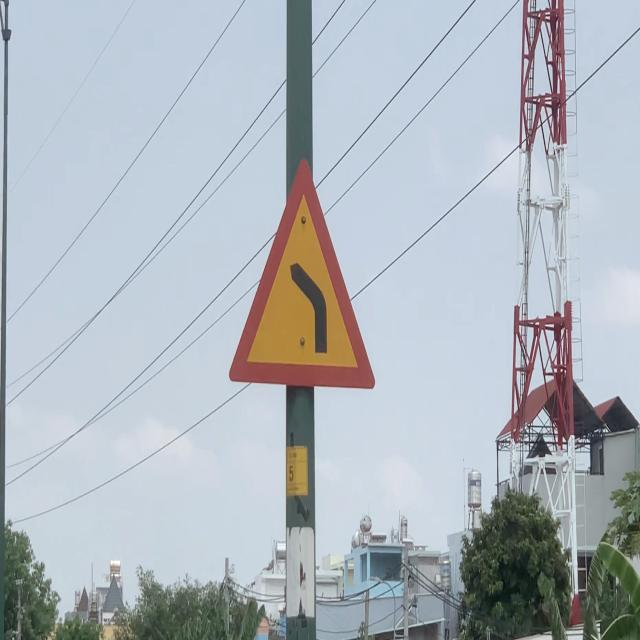Nguy hiem: (221, 141, 383, 402)
